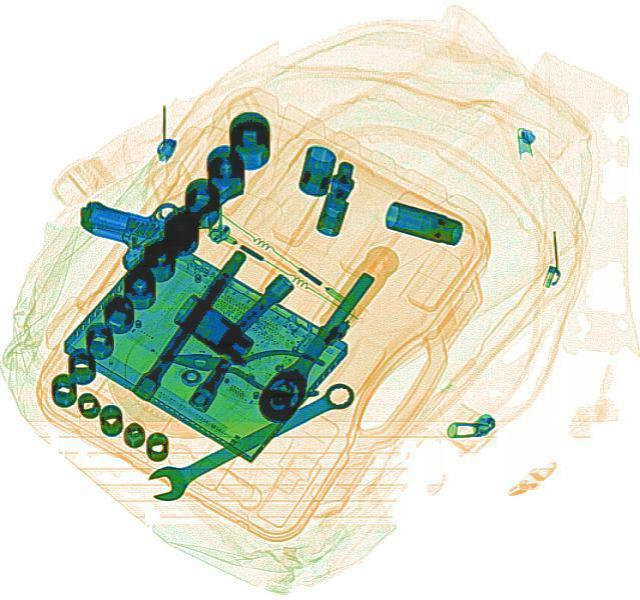Gun: (69, 122, 251, 277)
Pliers: (154, 329, 322, 397)
Wrench: (136, 374, 362, 505)
